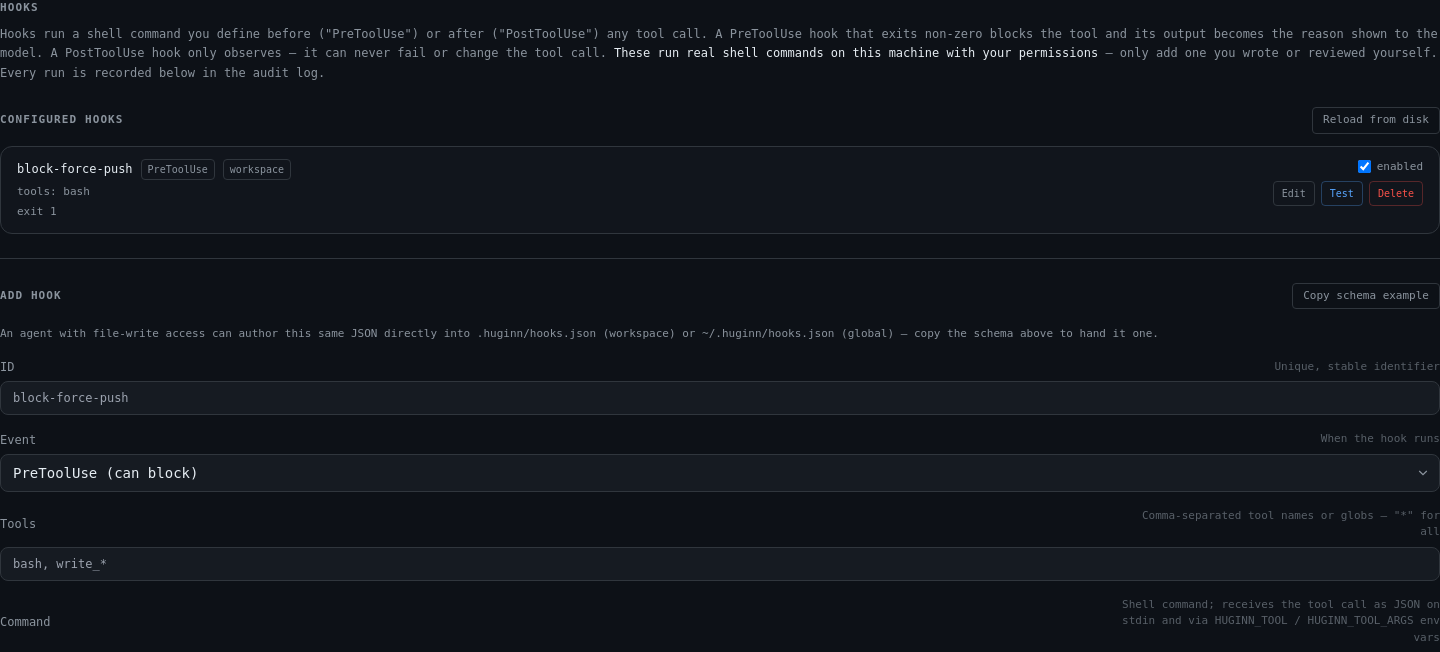
SettingsHooksTab › test-runs a hook and renders the result
Click the button "Test" at (1342, 194), box [1321,181,1363,206]
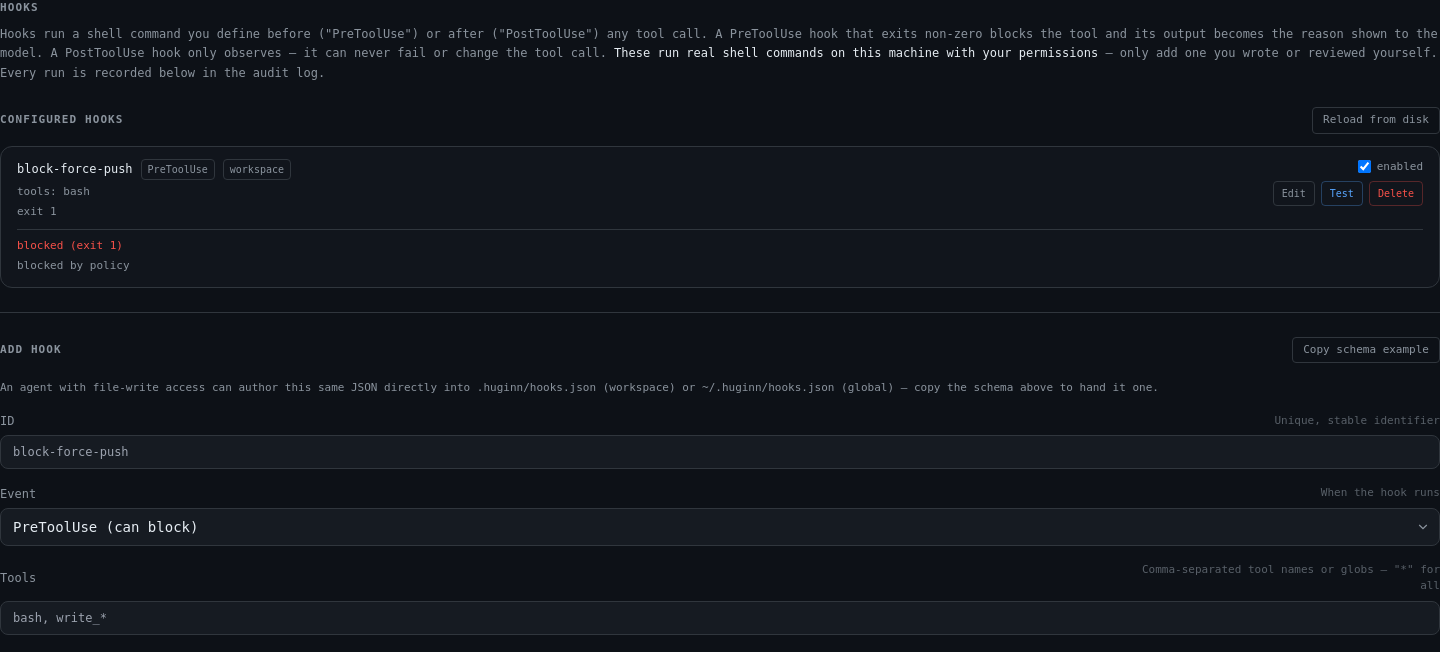
Now the text "blocked" is shown, box [17,238,123,252]
Now the text "blocked by policy" is shown, box [17,259,130,272]
